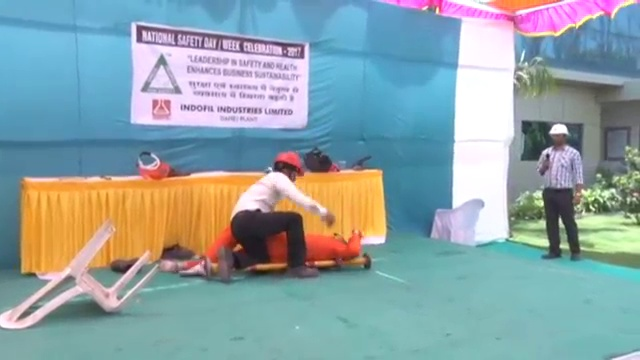helmet: (274, 149, 306, 177), (548, 122, 572, 138)
helmet_on: (272, 146, 306, 184), (546, 121, 571, 147)
person: (212, 148, 332, 284), (164, 221, 363, 281), (535, 120, 586, 261)
